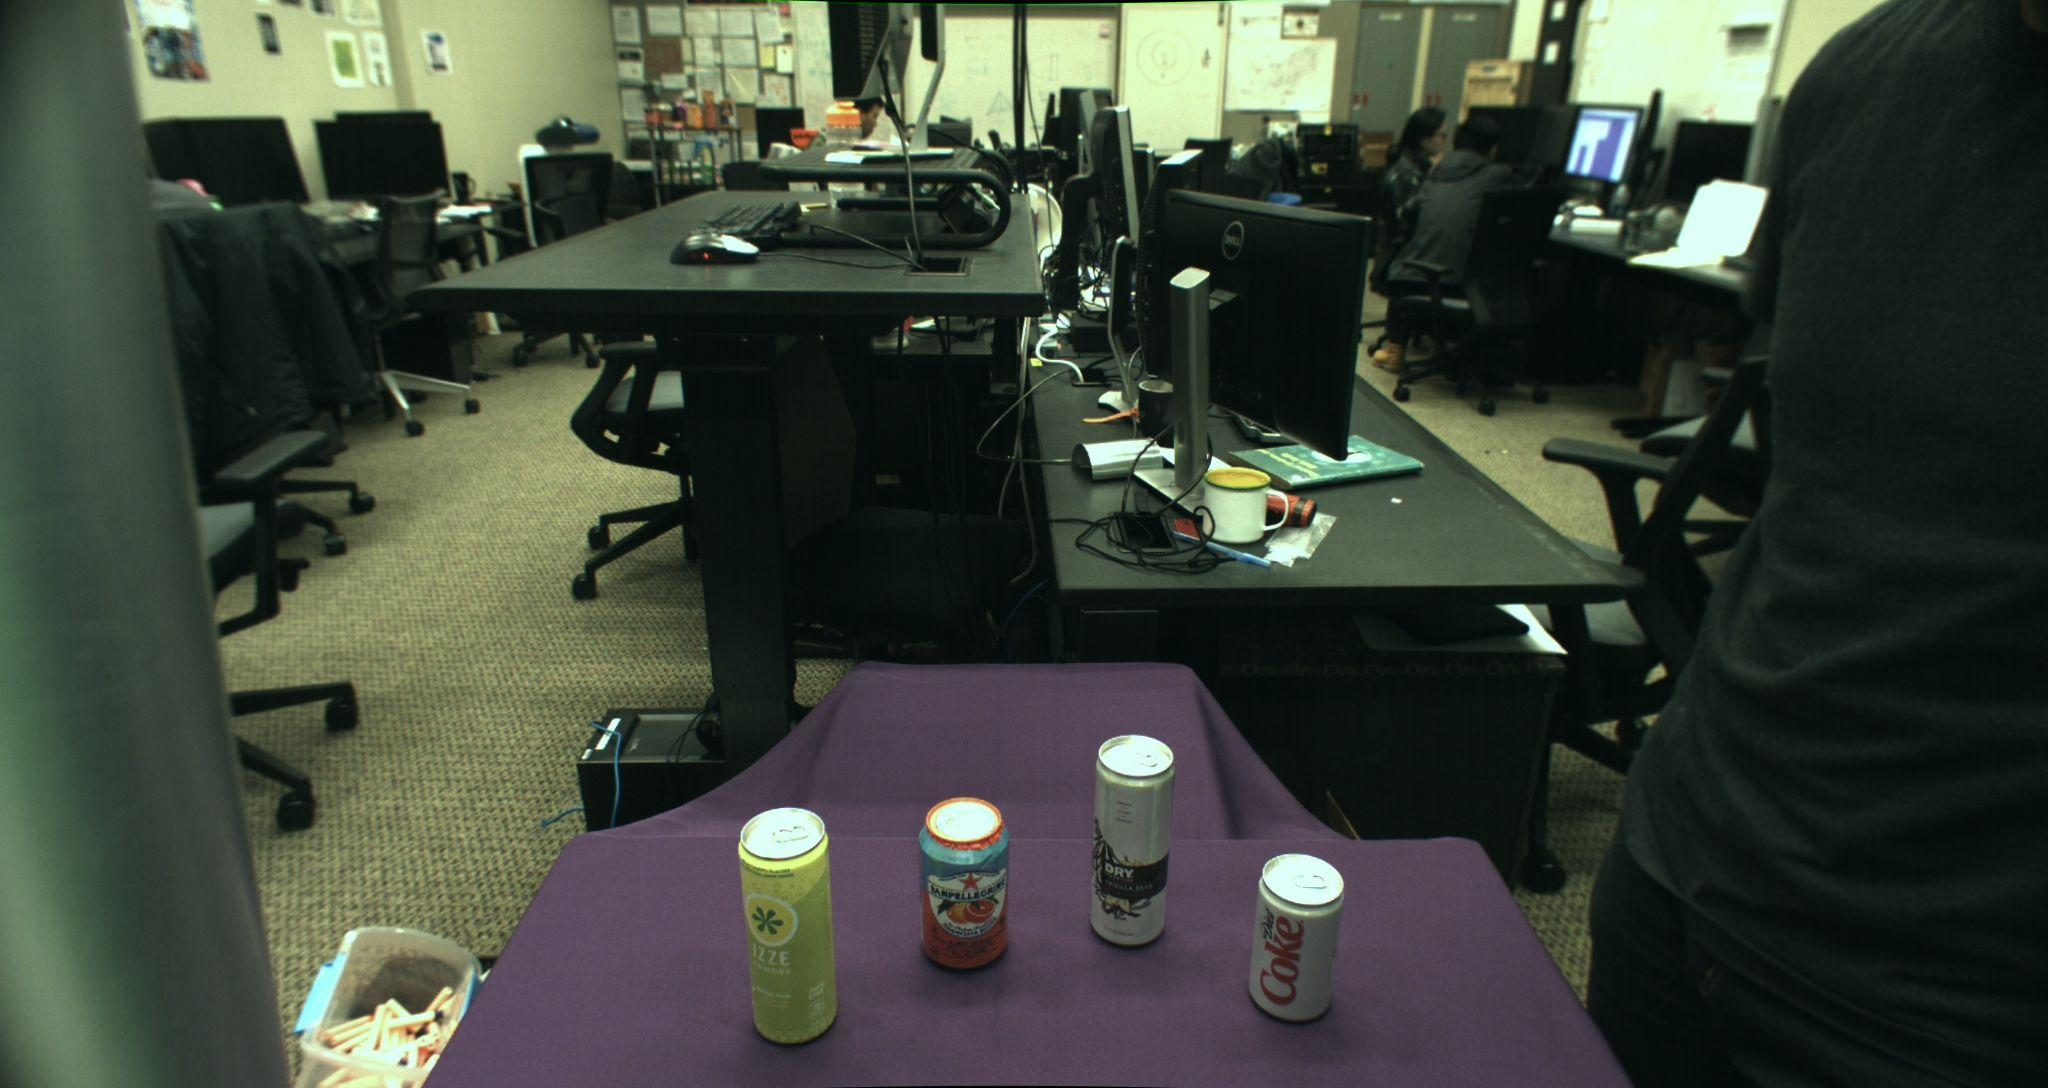can_diet_coke_small: (1247, 852, 1345, 1023)
can_dry_sparkling_vanilla_bean: (1090, 734, 1174, 948)
can_izze_fusions_lemon_lime: (740, 808, 838, 1045)
can_sanpellegrino_blood_orange: (918, 795, 1010, 970)
